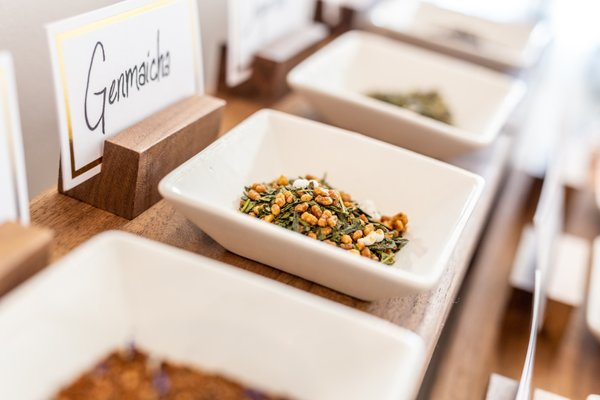sushi: (159, 105, 490, 306), (285, 29, 525, 160)
